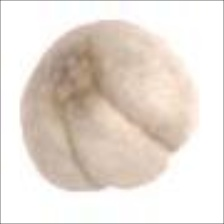L5: (59, 86, 179, 191), (30, 30, 102, 101)
L6: (18, 18, 205, 194)
